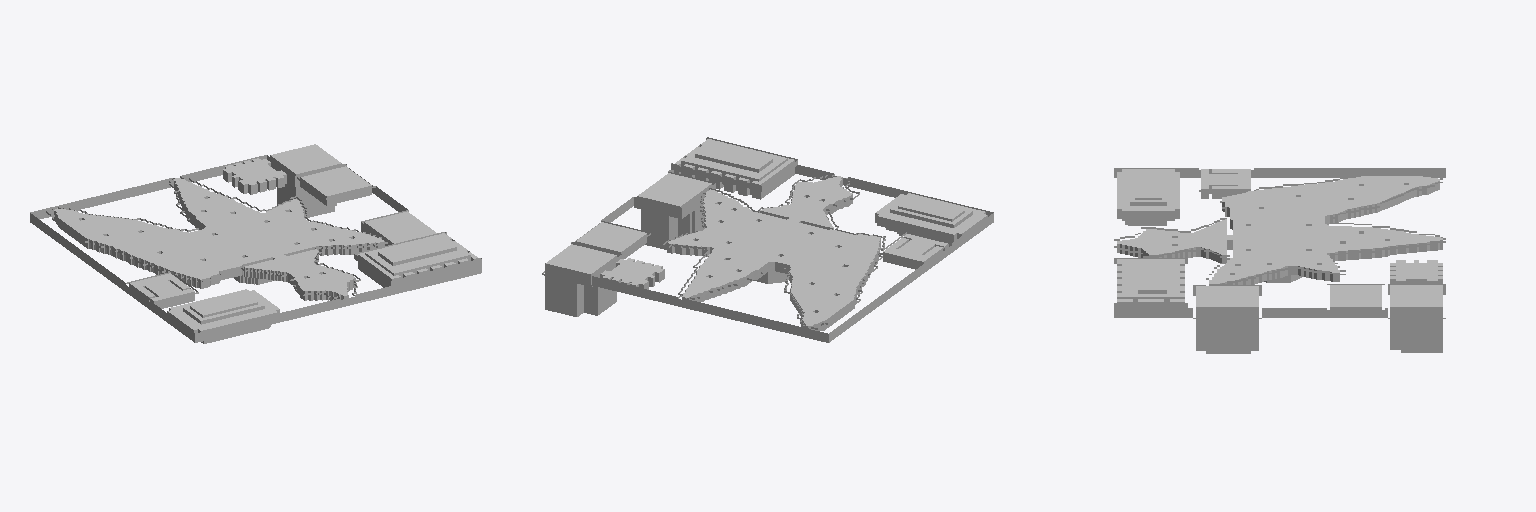
The model's file is broken2.obj.
3 renders of one model, left to right at view 1: azimuth 30°, elevation 25°; view 2: azimuth 150°, elevation 25°; view 3: azimuth 270°, elevation 25°, orthographic.
Parts seen in each view (by area): view 1: Mesh_0.005; view 2: Mesh_0.005; view 3: Mesh_0.005.
Part boxes in pixels (x1,y1,x2,y2): Mesh_0.005: (30,144,481,343); Mesh_0.005: (542,137,993,342); Mesh_0.005: (1114,168,1445,353).
Size of the model in its own units: 126 by 24.5 by 126.